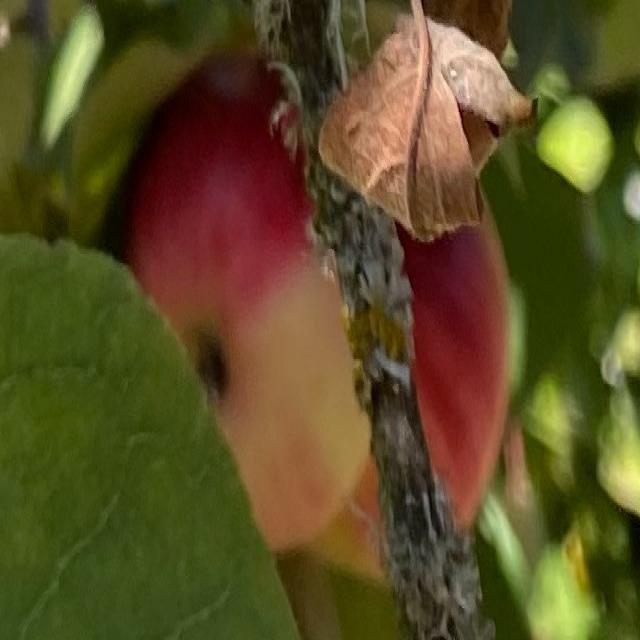Apples: (130, 62, 373, 558), (356, 176, 510, 571)
